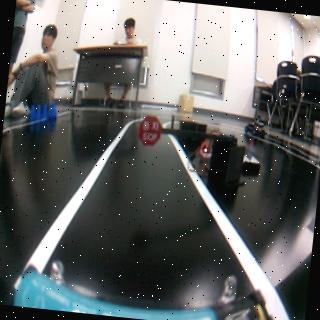stop: (137, 114, 163, 146)
